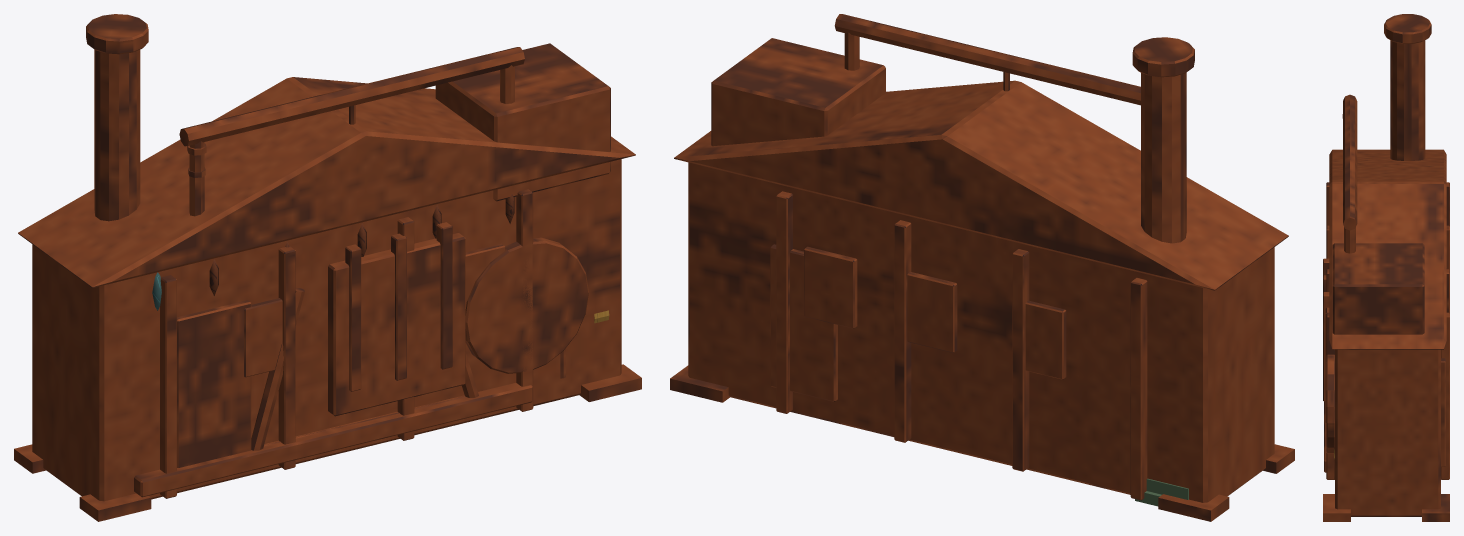
Rendered from stamp-mill.e10.glb.
3 renders of one model, left to right at view 1: azimuth 30°, elevation 25°; view 2: azimuth 150°, elevation 25°; view 3: azimuth 270°, elevation 25°, orthographic. The views are drawn at different scales.
Parts seen in each view (by area): view 1: StampMillE10KeelWorks; view 2: StampMillE10KeelWorks; view 3: StampMillE10KeelWorks.
Boxes of the visible parts, x1,y1,x2,y2 form: StampMillE10KeelWorks: [14, 14, 641, 521]; StampMillE10KeelWorks: [670, 14, 1294, 521]; StampMillE10KeelWorks: [1323, 14, 1449, 521].
Bounding box in the file's own units: 5.95 × 4.56 × 1.6.
Materials: 1 (1 with a texture image).
